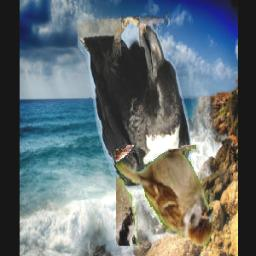Crow: (79, 10, 192, 192)
Sparrow: (116, 146, 213, 247)
